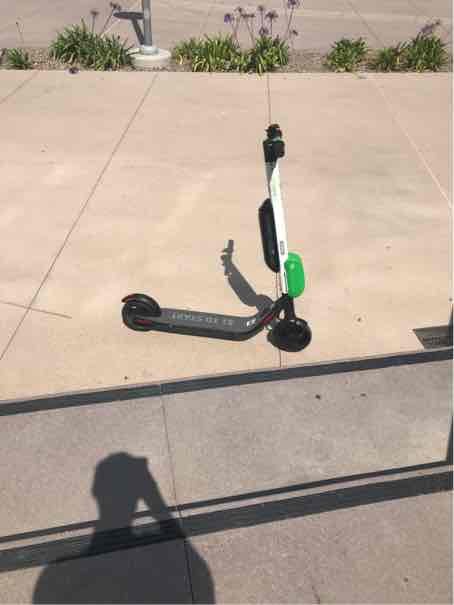scooter: (111, 105, 310, 365)
